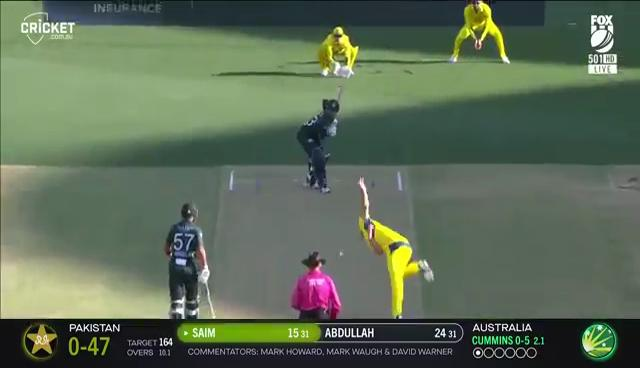ball: (335, 247, 352, 263)
